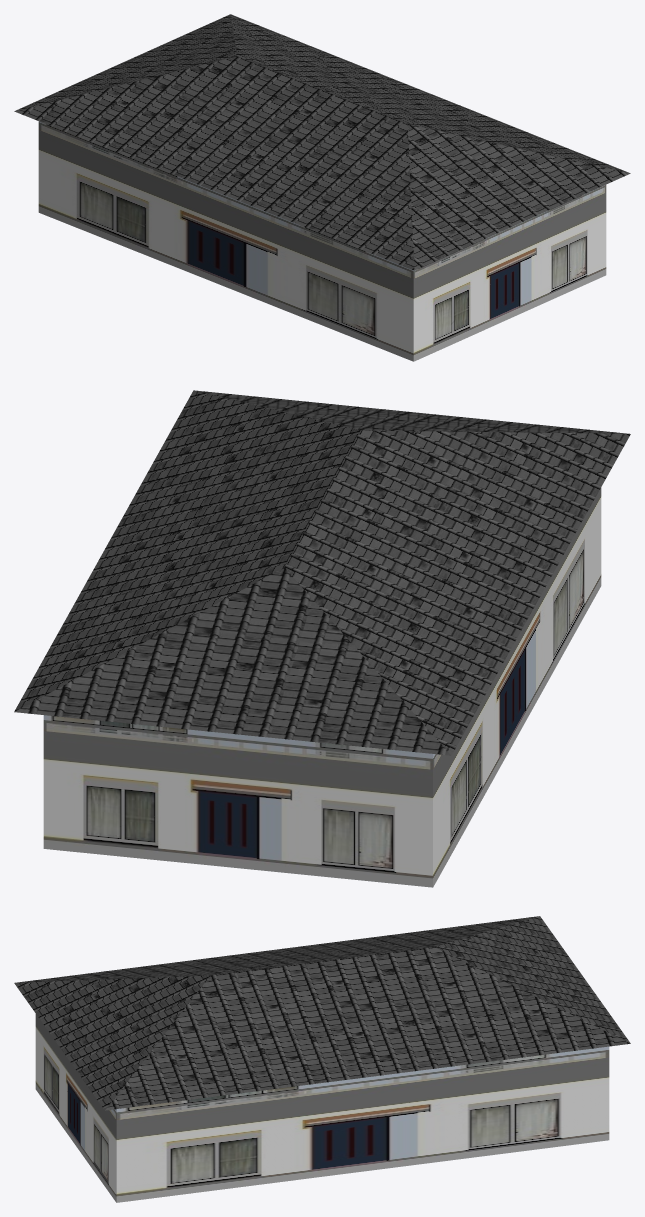
The picture shows the model from 3 angles, top to bottom: view 1: azimuth 30°, elevation 25°; view 2: azimuth 150°, elevation 25°; view 3: azimuth 270°, elevation 25°; orthographic projection. The views are drawn at different scales.
Visible parts, largest first — view 1: CityEngineMaterial_8_m, CityEngineMaterial_7_m; view 2: CityEngineMaterial_8_m, CityEngineMaterial_7_m; view 3: CityEngineMaterial_8_m, CityEngineMaterial_7_m.
Part boxes in pixels (bbox=[...]): CityEngineMaterial_8_m: bbox=[14, 14, 630, 270]; CityEngineMaterial_7_m: bbox=[38, 121, 606, 361]; CityEngineMaterial_8_m: bbox=[14, 390, 630, 755]; CityEngineMaterial_7_m: bbox=[43, 487, 601, 887]; CityEngineMaterial_8_m: bbox=[14, 916, 630, 1110]; CityEngineMaterial_7_m: bbox=[35, 1014, 609, 1202].
Bounding box in the file's own units: 24.93 × 9.17 × 33.41.
